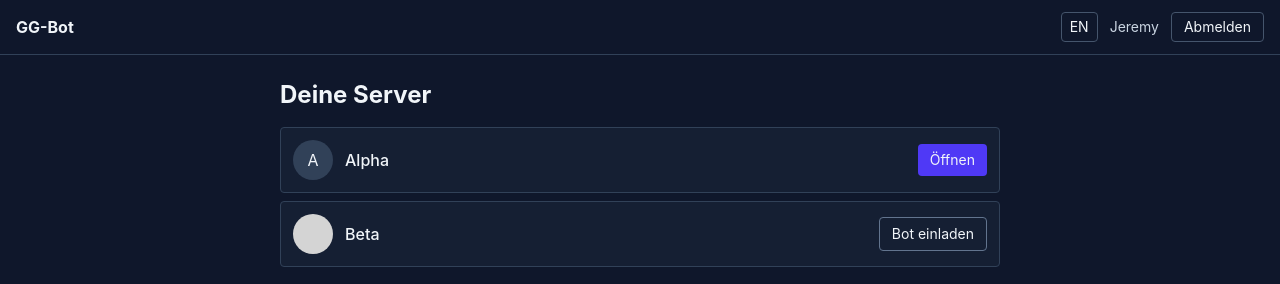
Test: Serverliste › Sprache umschalten
expect the heading "Deine Server" is shown: met, box 280,80 -> 431,109
What coordinates should you click on to do the following:
click the button with aria-label "Switch to English"
I would click on:
 (1079, 27)
Its box is 1061,12 -> 1098,42.
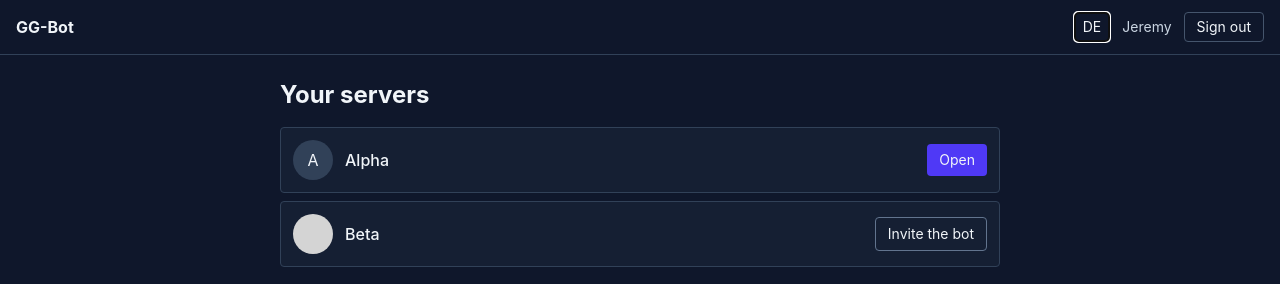
expect the heading "Your servers" is shown: met, box 280,80 -> 429,109
